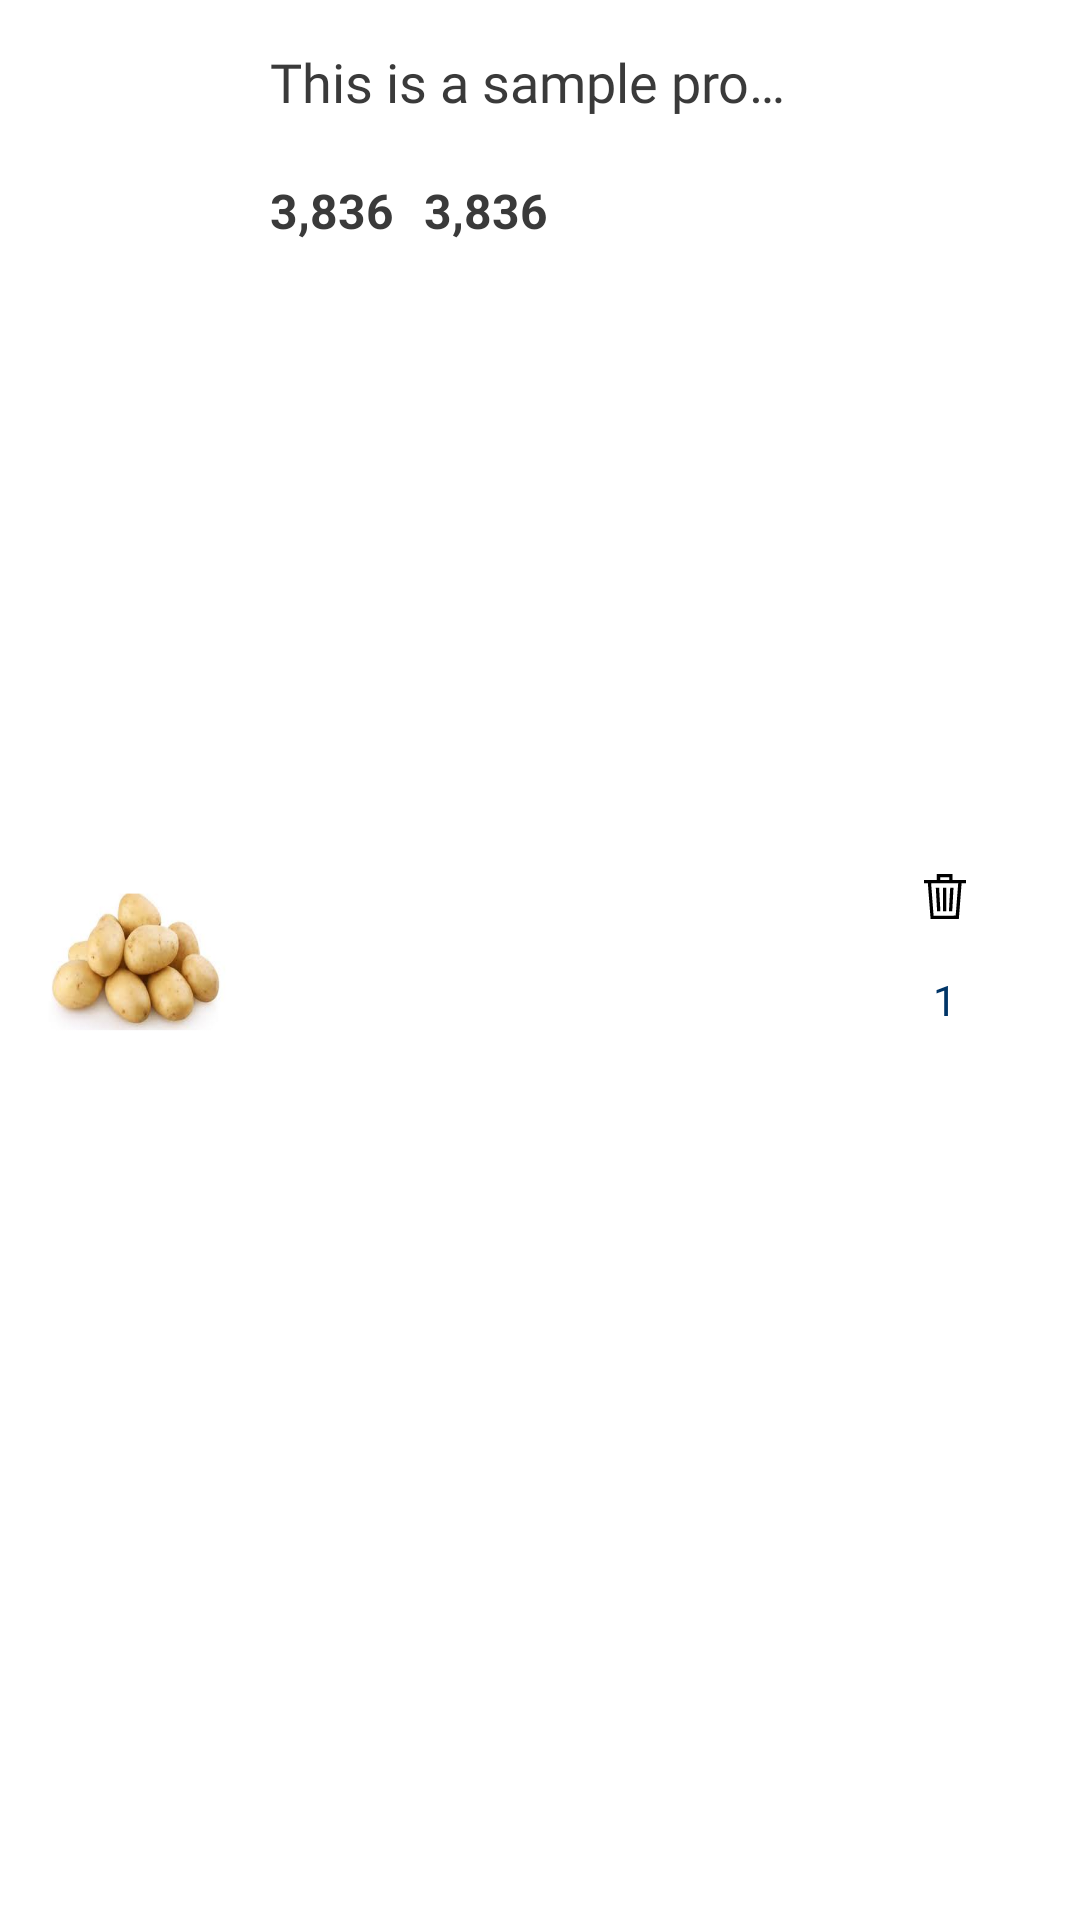

Icon bounding boxes for this 1080px×1920px phone screenshot, format bbox=[x1, y1, x2, y2]:
delete: bbox=[924, 874, 966, 919]
potato: bbox=[52, 893, 219, 1030]
